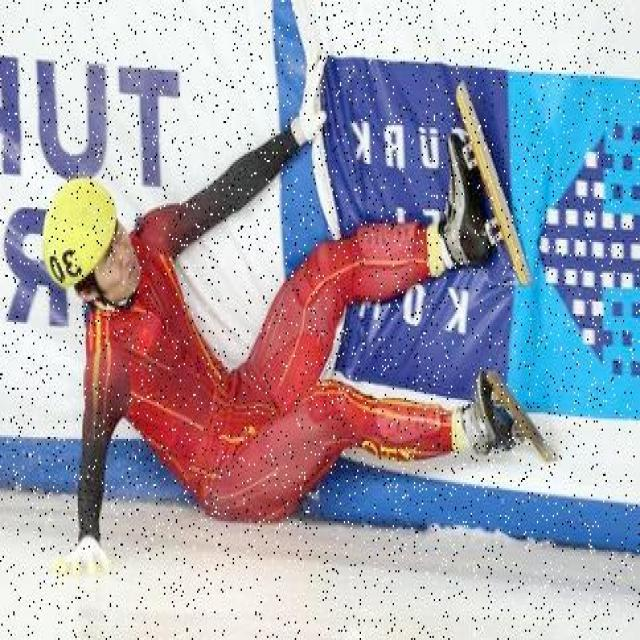fall: (48, 135, 508, 546)
